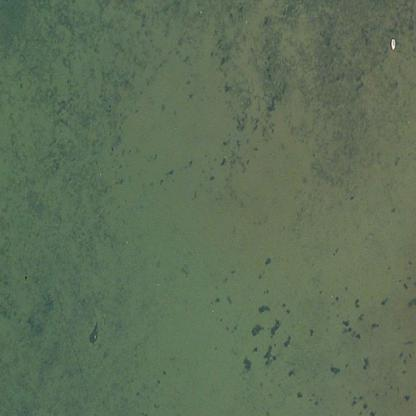ship: (380, 31, 402, 55)
